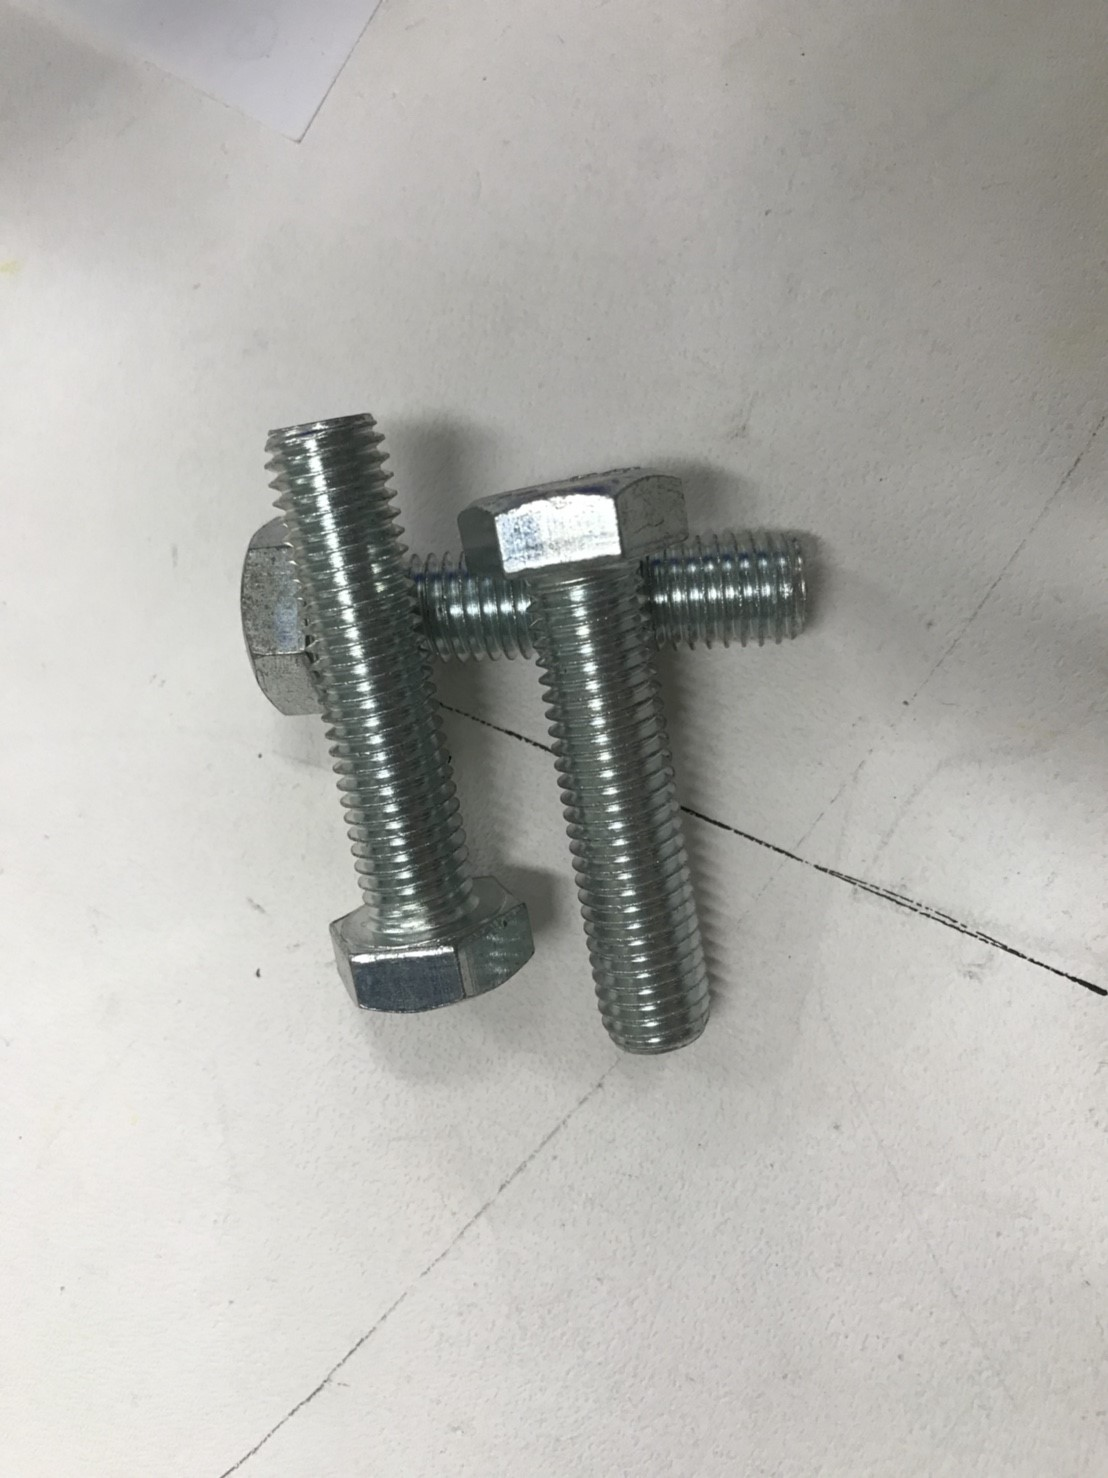screw: (257, 384, 541, 1023), (462, 476, 737, 1051), (203, 486, 847, 725)
